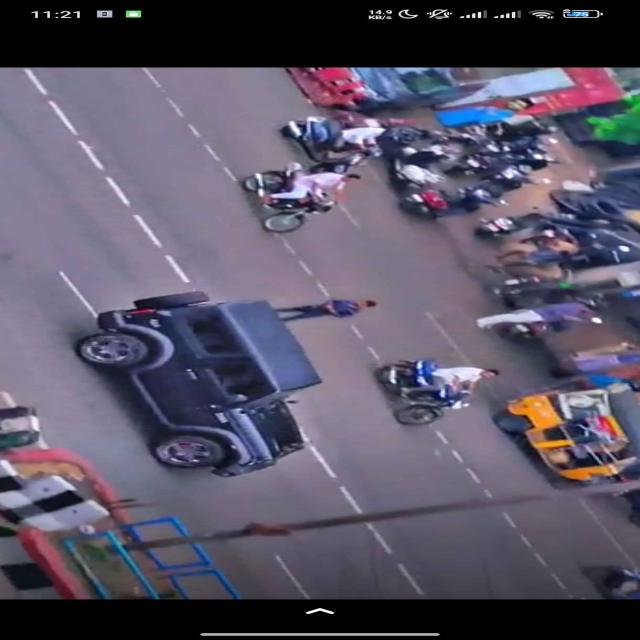bike: (221, 161, 344, 244), (274, 110, 380, 176), (379, 354, 470, 430)
car: (72, 285, 358, 492)
